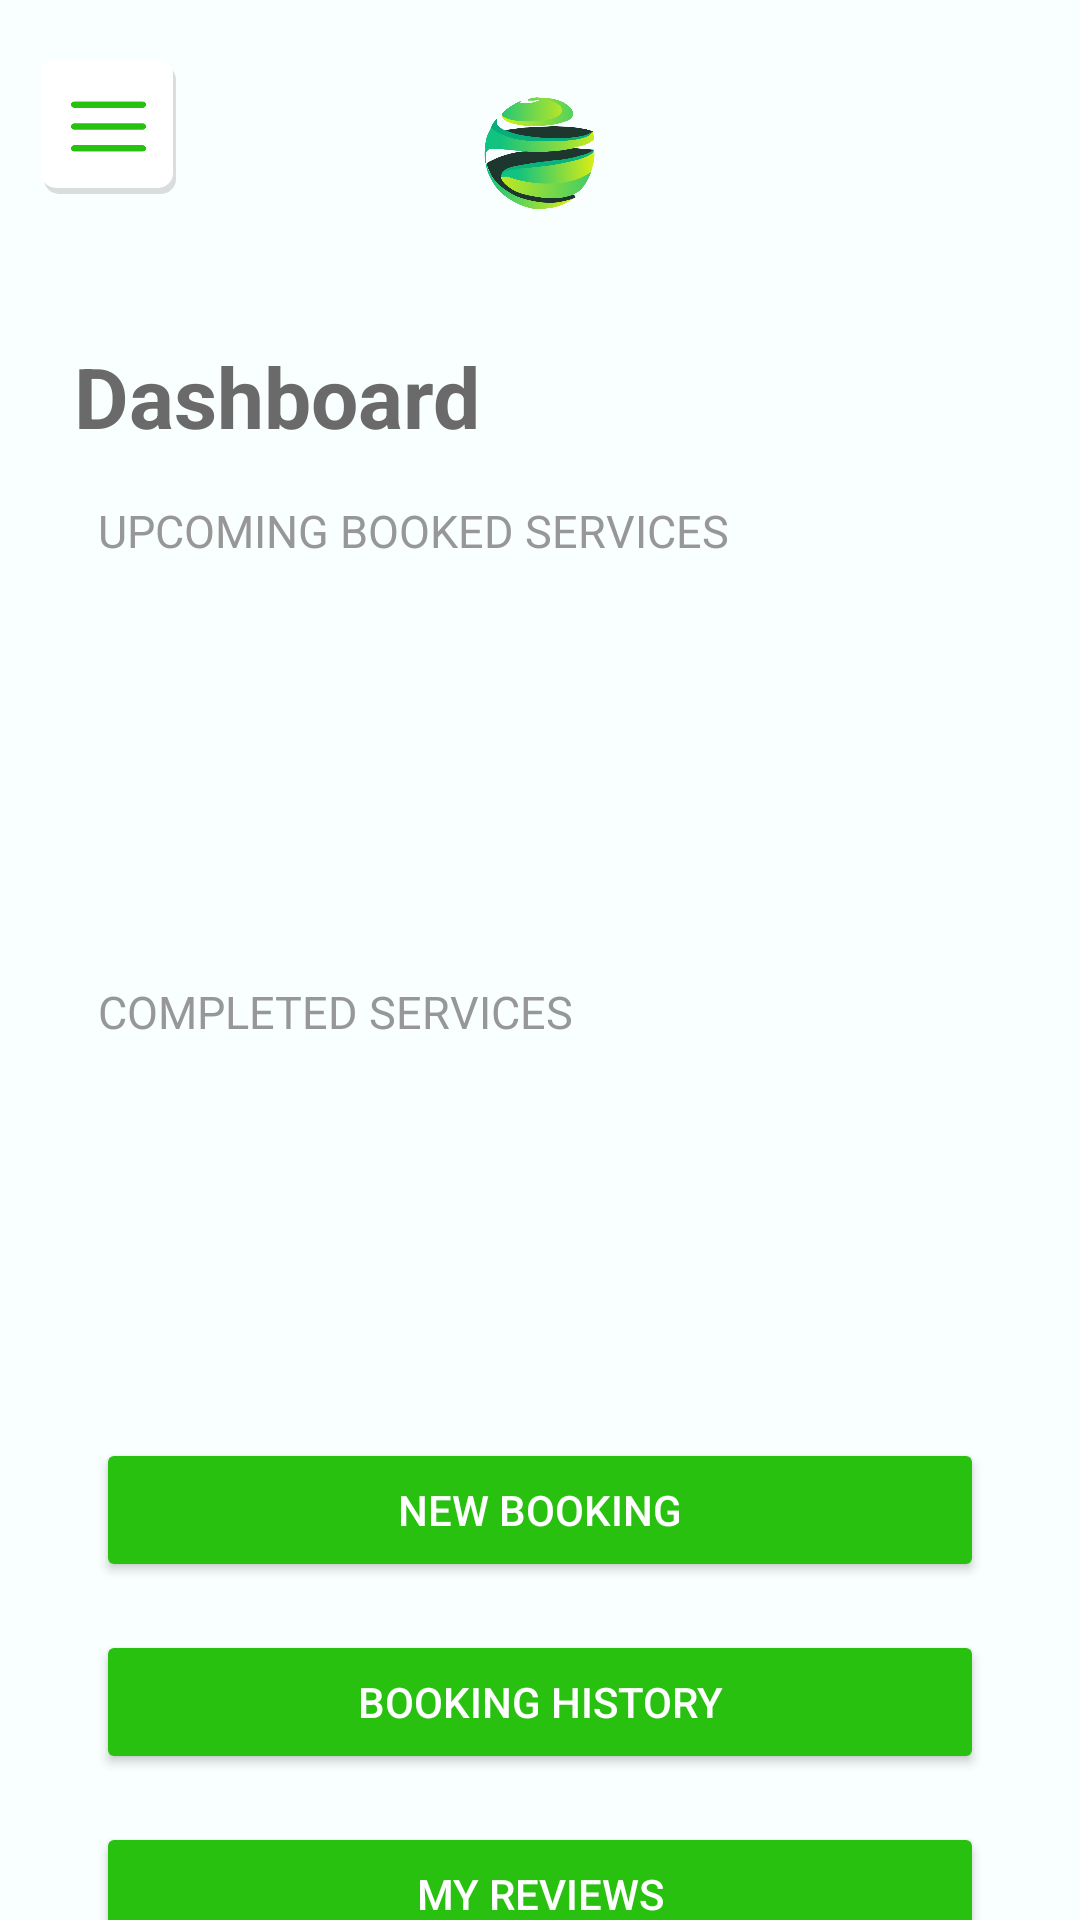

Icon click points for this 1080*1920 phone screenshot, format (x,y):
burger: (110,133)
